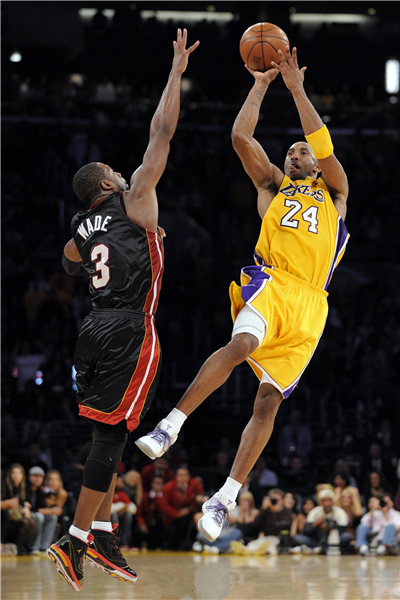Basketball: (239, 21, 291, 72)
